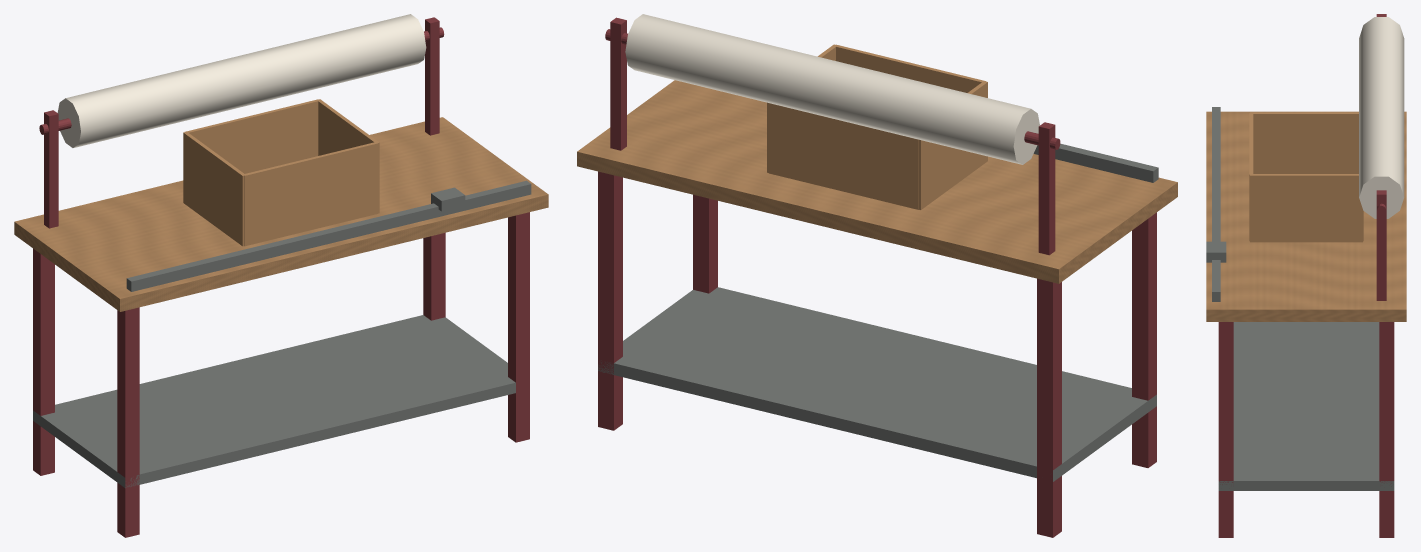
Rendered from s11-packing-station-low.glb.
3 views of the same model, side by side, from view 1: azimuth 30°, elevation 25°; view 2: azimuth 150°, elevation 25°; view 3: azimuth 270°, elevation 25° (orthographic). The views are drawn at different scales.
Parts seen in each view (by area): view 1: Wrapping bench, Roll and cutter, Open carton; view 2: Wrapping bench, Roll and cutter, Open carton; view 3: Wrapping bench, Open carton, Roll and cutter.
Boxes of the visible parts, left/top/right/bottom form: Wrapping bench: left=14, top=117, right=548, bottom=537; Roll and cutter: left=39, top=14, right=531, bottom=291; Open carton: left=183, top=99, right=379, bottom=246; Wrapping bench: left=577, top=80, right=1177, bottom=537; Roll and cutter: left=605, top=14, right=1158, bottom=255; Open carton: left=767, top=44, right=987, bottom=209; Wrapping bench: left=1206, top=111, right=1406, bottom=537; Open carton: left=1249, top=112, right=1363, bottom=242; Roll and cutter: left=1206, top=14, right=1404, bottom=301.
Size of the model in its own units: 2.62 by 2.14 by 1.12.
Materials: 1 (1 with a texture image).
